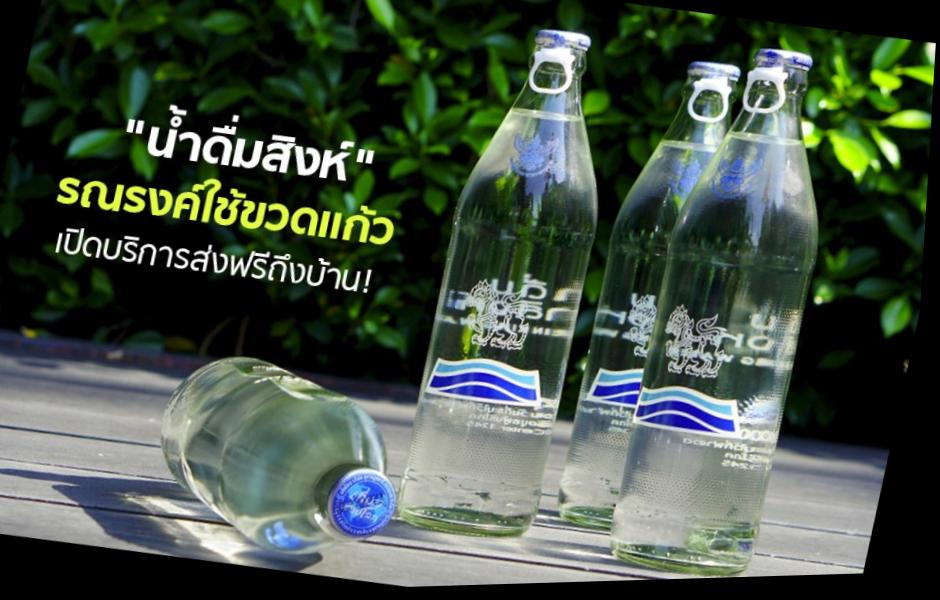glass: (563, 50, 816, 576), (397, 30, 596, 537), (560, 64, 737, 555), (162, 358, 395, 571)
